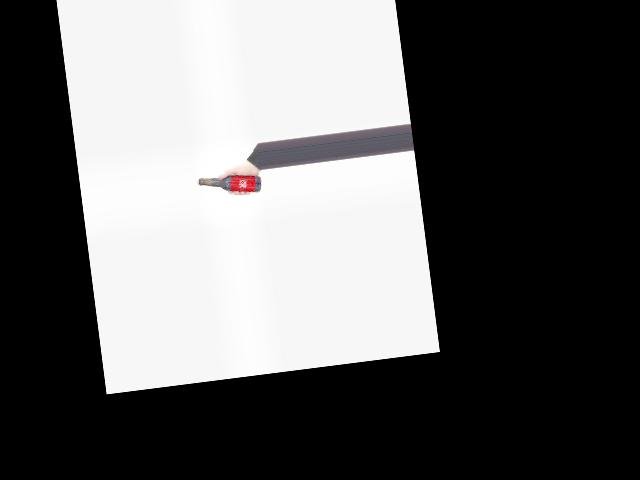beer: (196, 170, 262, 200)
